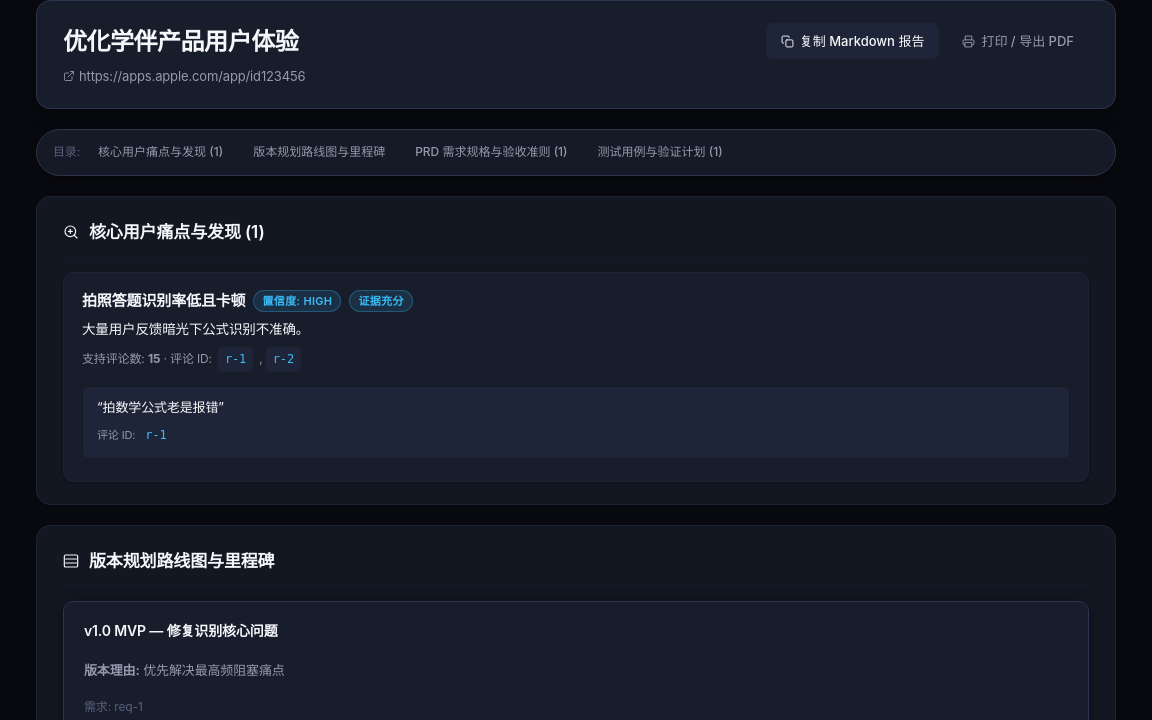
Test: ExecutiveReport › handles copy markdown button
Click the button "复制 Markdown 报告" at {"x": 853, "y": 41}, box [766, 23, 940, 59]
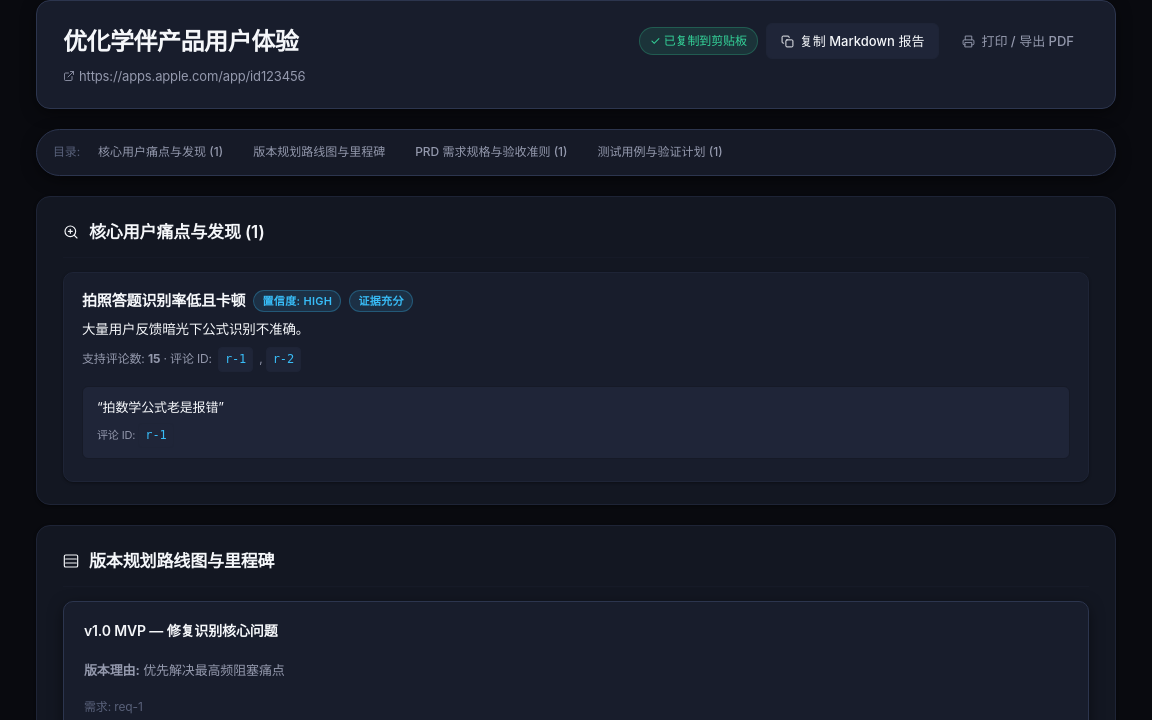
expect the text "✓ 已复制到剪贴板" is shown: met, box [639, 27, 758, 55]
